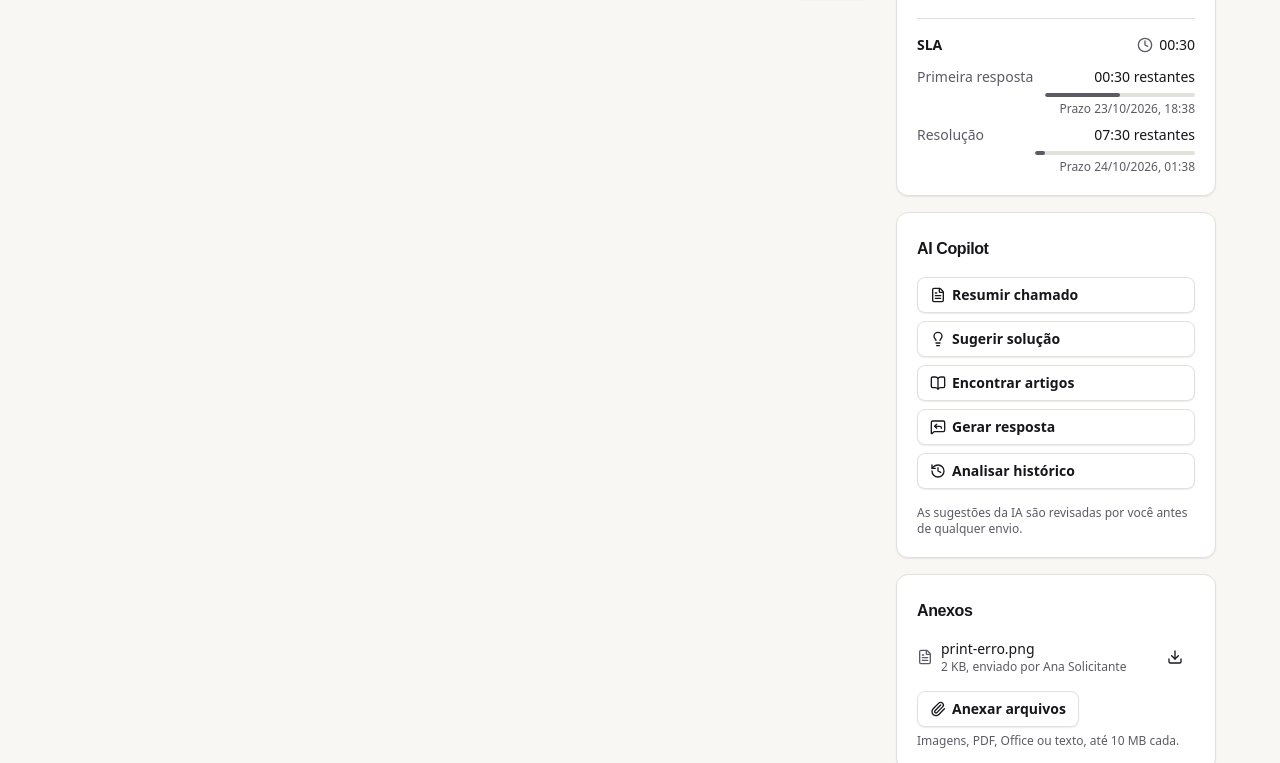
Test: TicketDetailsPage › Copilot lista artigos relacionados e permite tentar de novo após erro
(page scrolled)
Click the button "Encontrar artigos".
click(1056, 383)  # box [917,365,1195,401]
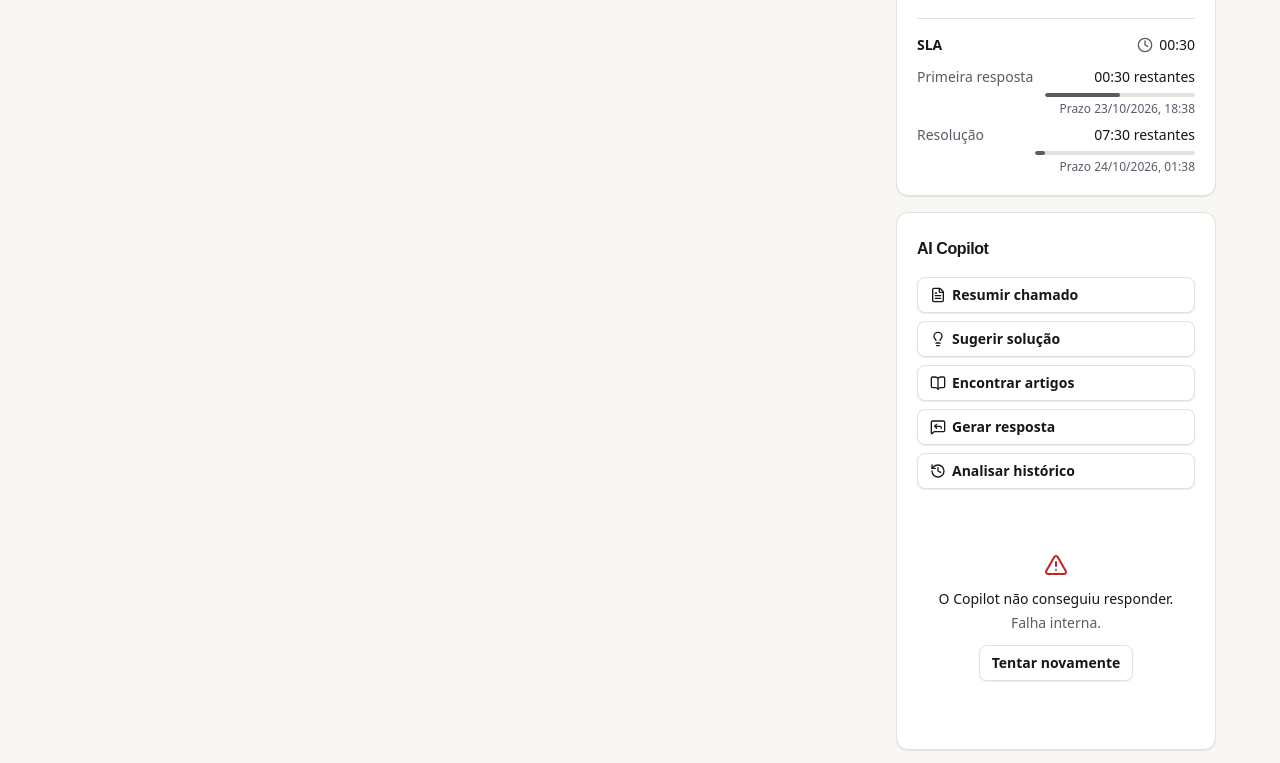
Expected: the text "O Copilot não conseguiu responder." is shown, [939,589,1173,609]
Click the button "Tentar novamente".
click(1056, 663)  # box [979,645,1133,681]
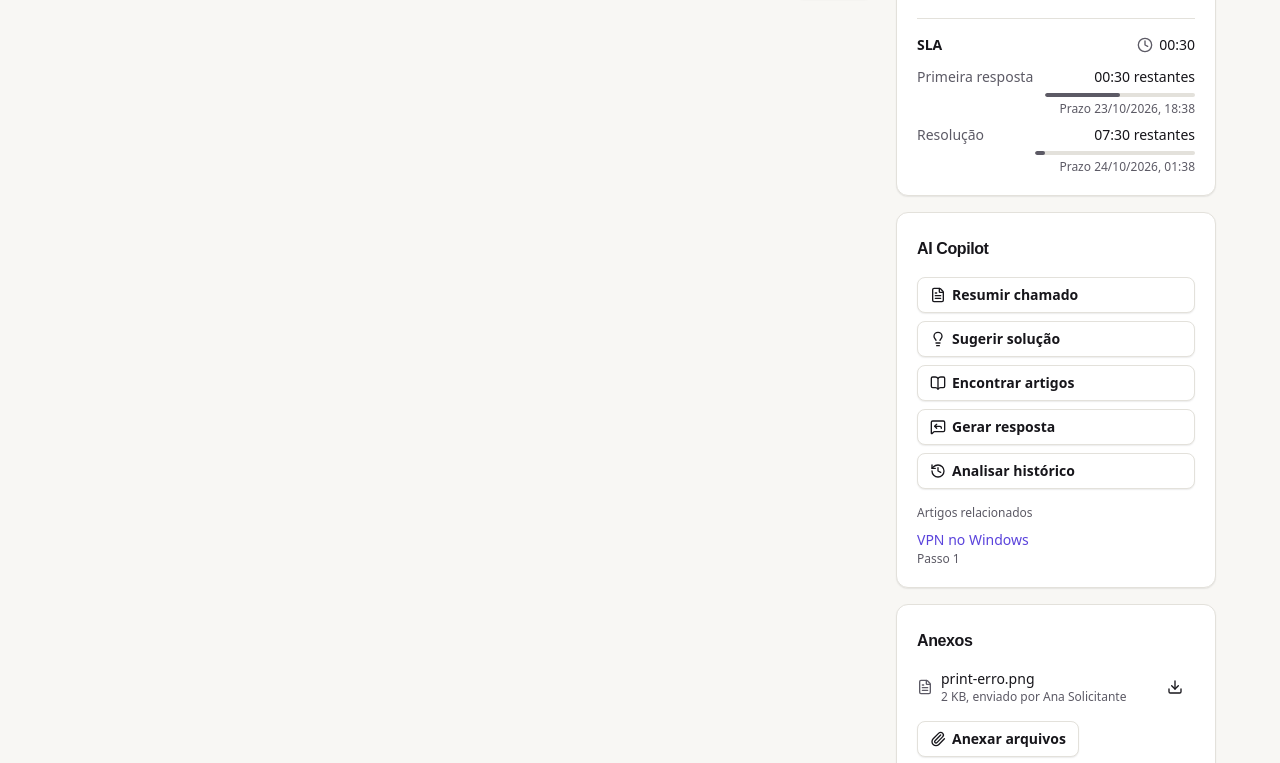
Expected: the link "VPN no Windows" is shown, [917,530,1029,549]
